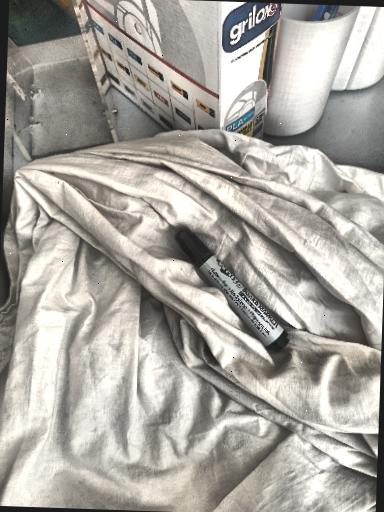marcador negro: (174, 227, 288, 352)
